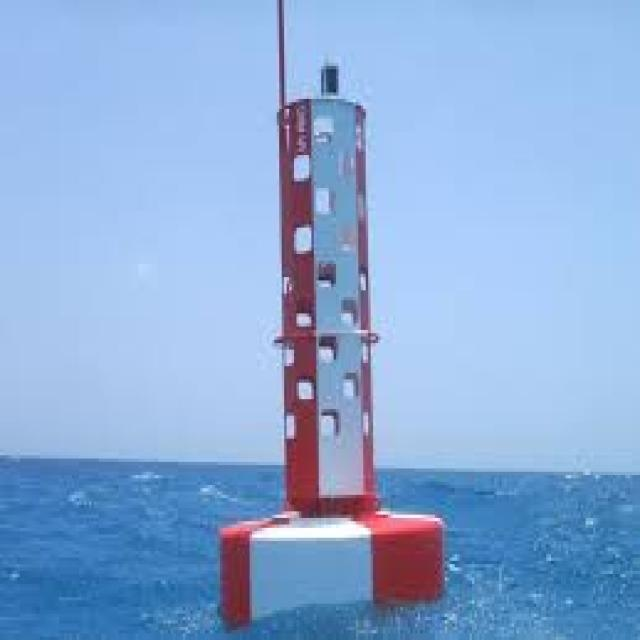marque: (215, 1, 457, 626)
